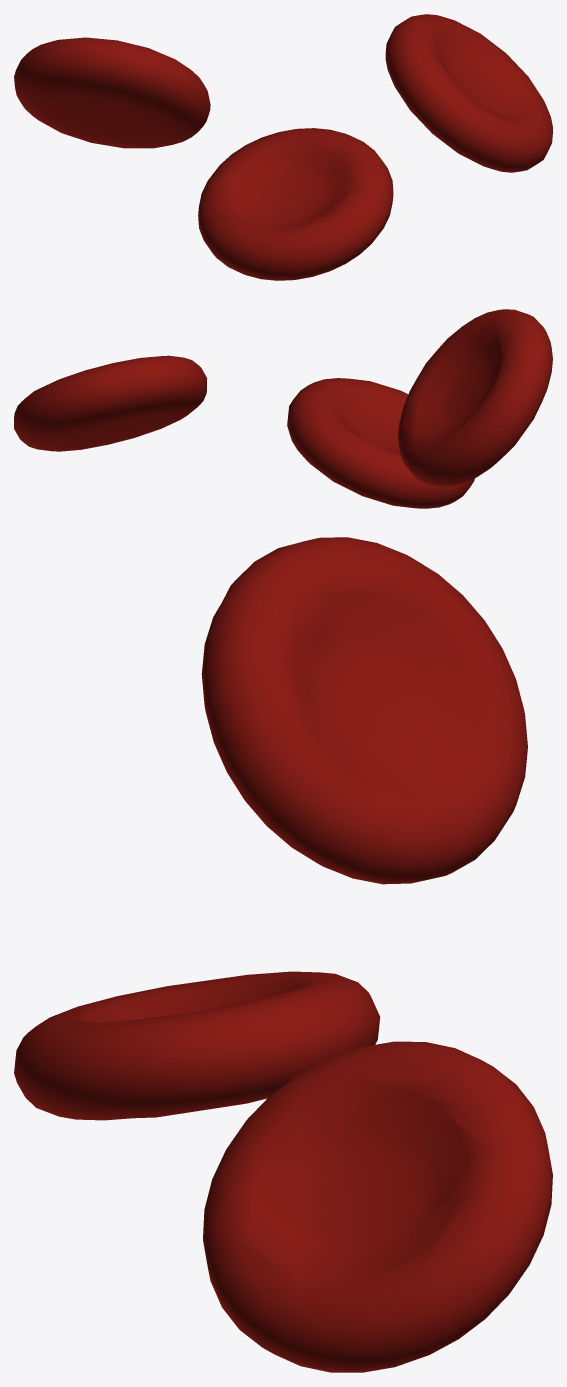
Rendered from PRP_RBC.glb.
3 views of the same model, one above another, from view 1: azimuth 30°, elevation 25°; view 2: azimuth 150°, elevation 25°; view 3: azimuth 270°, elevation 25° (orthographic). The views are drawn at different scales.
Visible parts, largest first — view 1: Torus.002_0; view 2: Torus.002_0; view 3: Torus.002_0.
Boxes of the visible parts, bbox=[...] form: Torus.002_0: bbox=[14, 14, 552, 280]; Torus.002_0: bbox=[14, 309, 552, 508]; Torus.002_0: bbox=[14, 537, 552, 1372].
Size of the model in its own units: 1.36 by 0.5846 by 0.6634.
